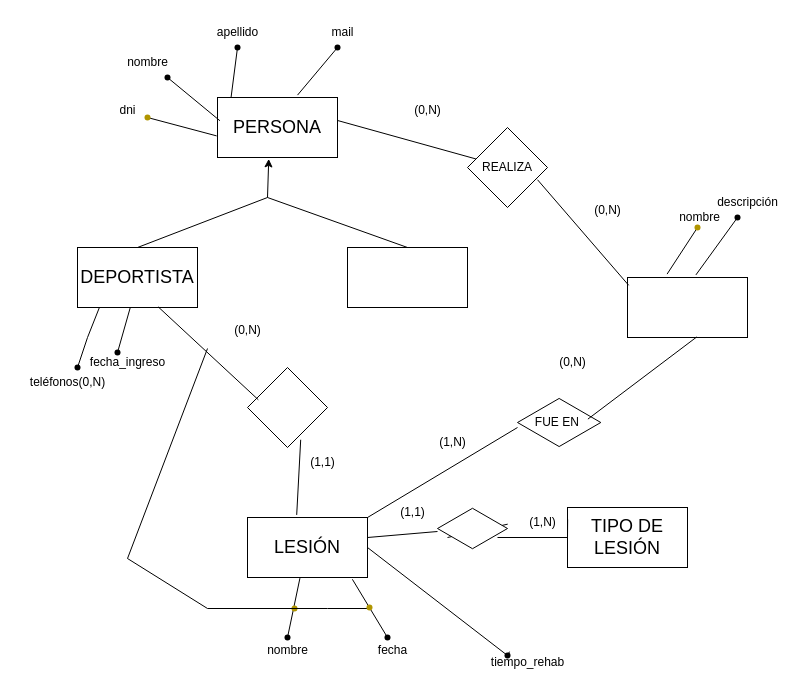
Image size: 804x694. Some labels were removed from this diagram. Here are the shapes that lost their labels. From the top down, the centre of each, then its label:
the point at 407,277: REPRESENTANTE
the point at 687,307: DEPORTE
the point at 287,407: SUFRIÓ
the point at 472,528: ES DE
